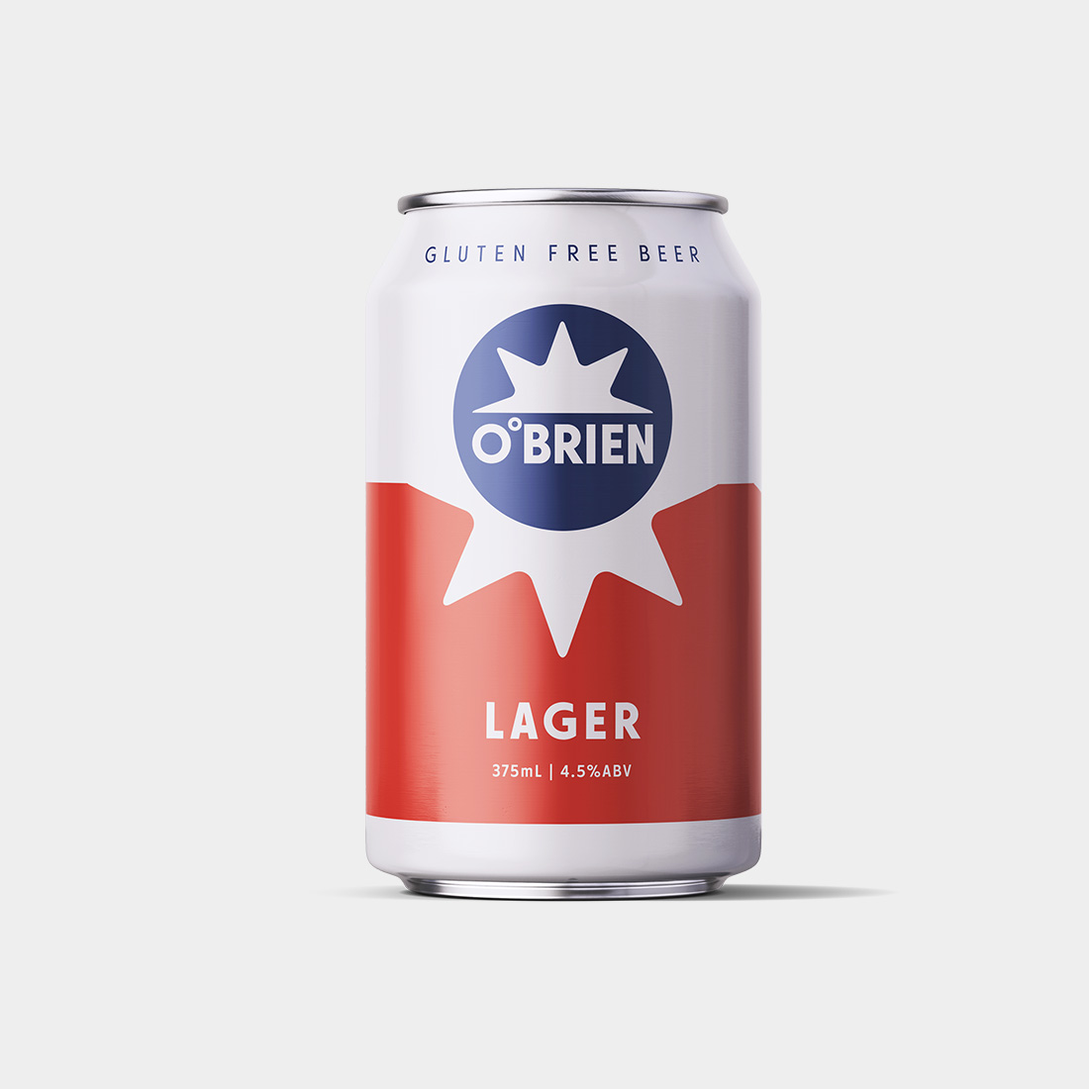cylinder: (366, 187, 762, 901)
